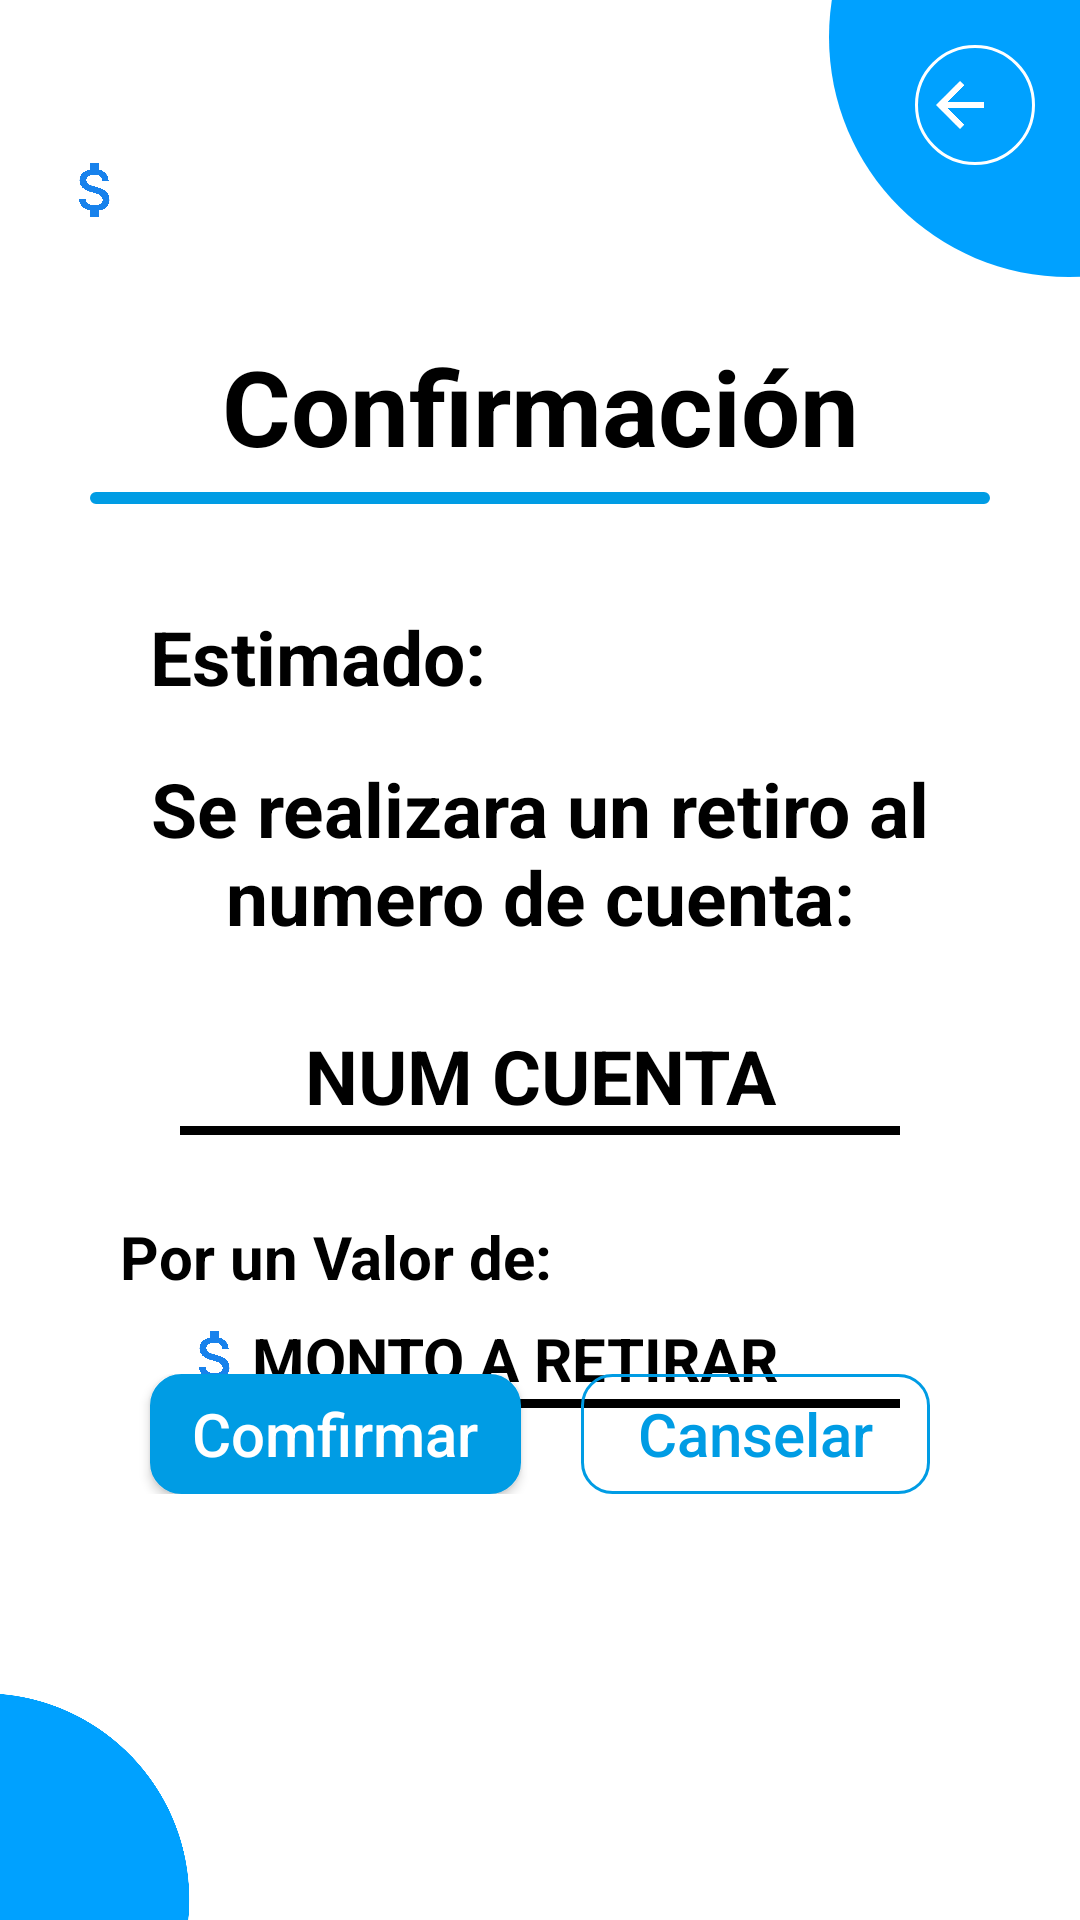

Icons on this 1080×1920 Android screen, each with its box as (x1, y1, x2, y2):
back: (915, 45, 1035, 165)
